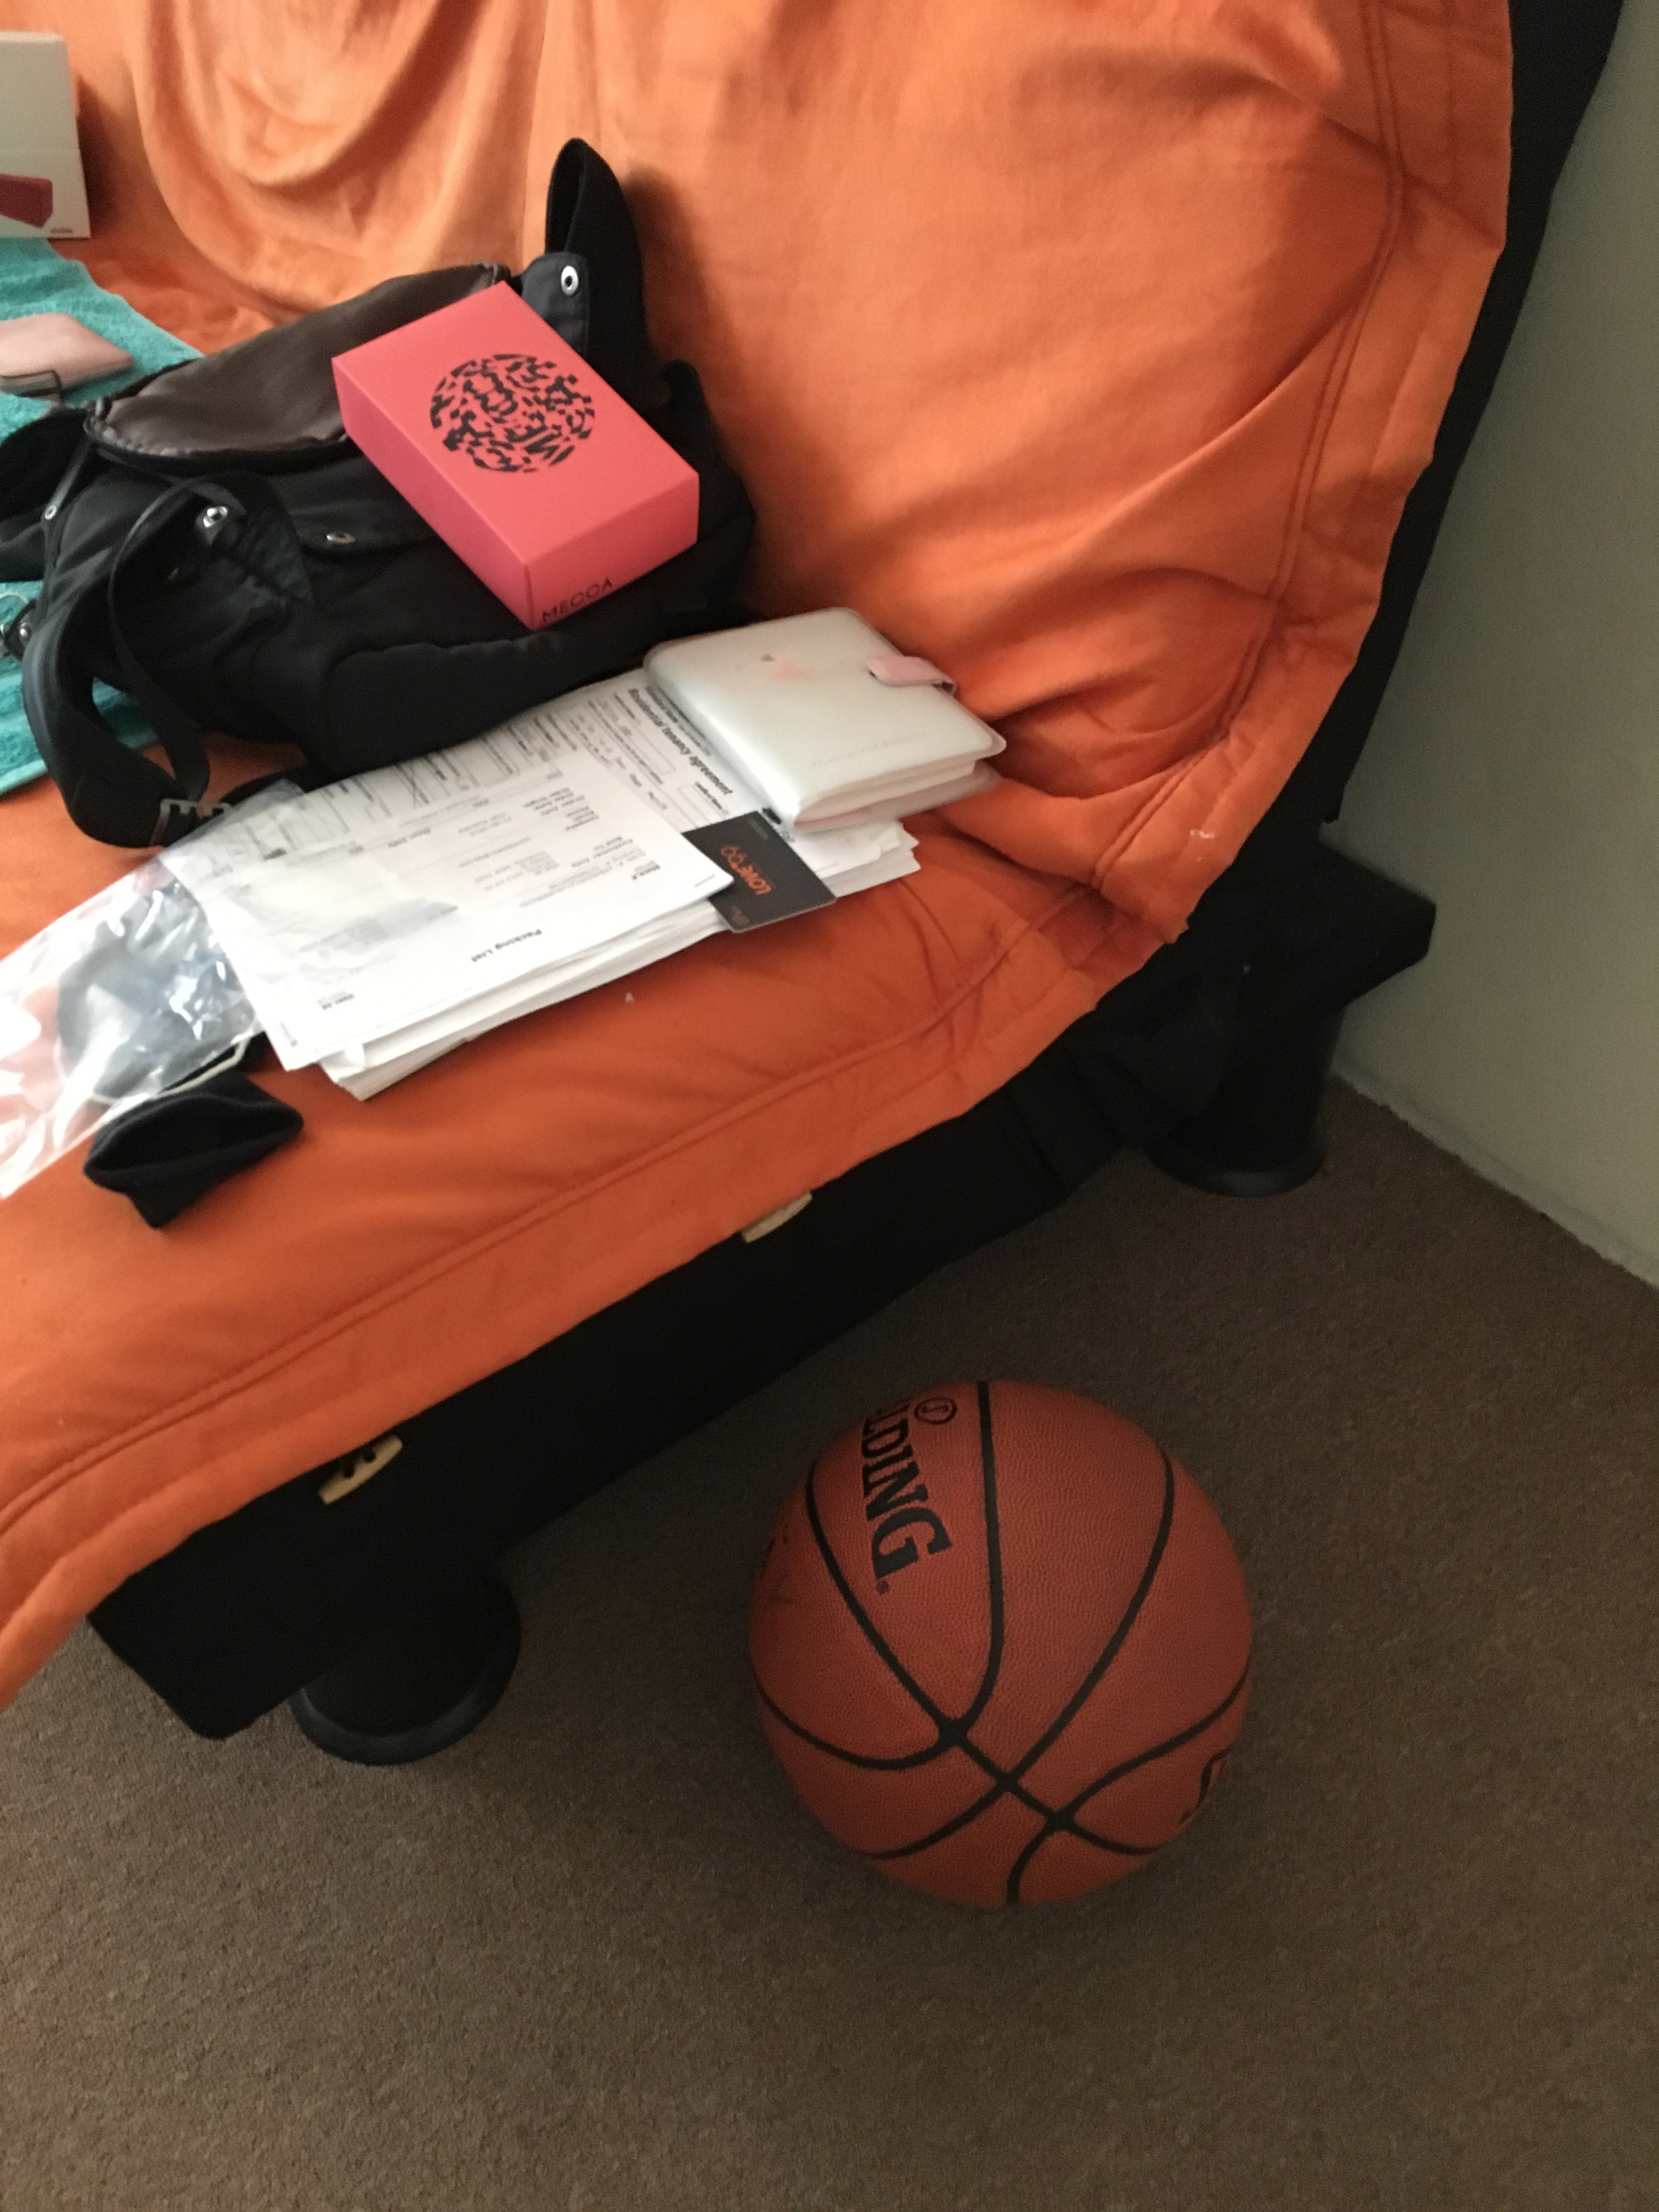Basketball: (746, 1369, 1267, 1925)
